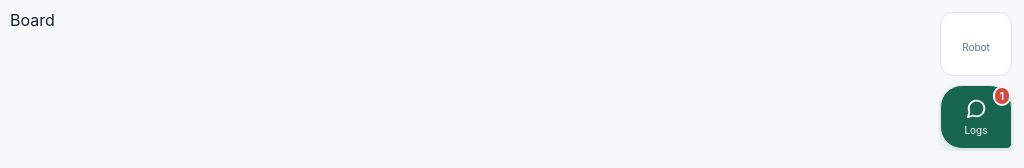
Test case: keeps panels mounted, toggles one panel, and counts new logs while closed
Later steps or results of the test are not shown.
Check: the text "Log detail" is not shown
Check: the text named "1 log mới" is shown, box [993,86,1011,106]
Click the button "Logs 1": coordinates (976, 117) [940,85,1012,149]
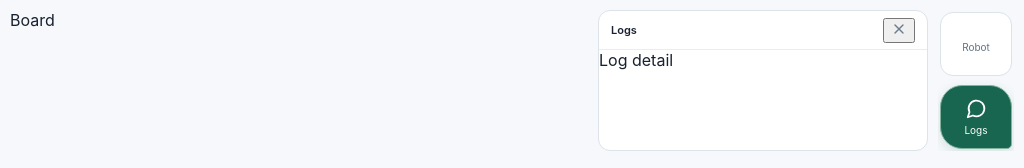
Check: the text "Log detail" is shown, box [599,50,673,70]
Click the button "Robot": coordinates (976, 44) [940,12,1012,76]
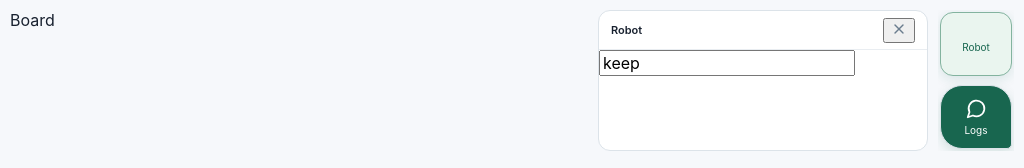
Check: the text "Log detail" is gone
Check: the field named "Saved value" holds "keep", box [599,50,855,76]
